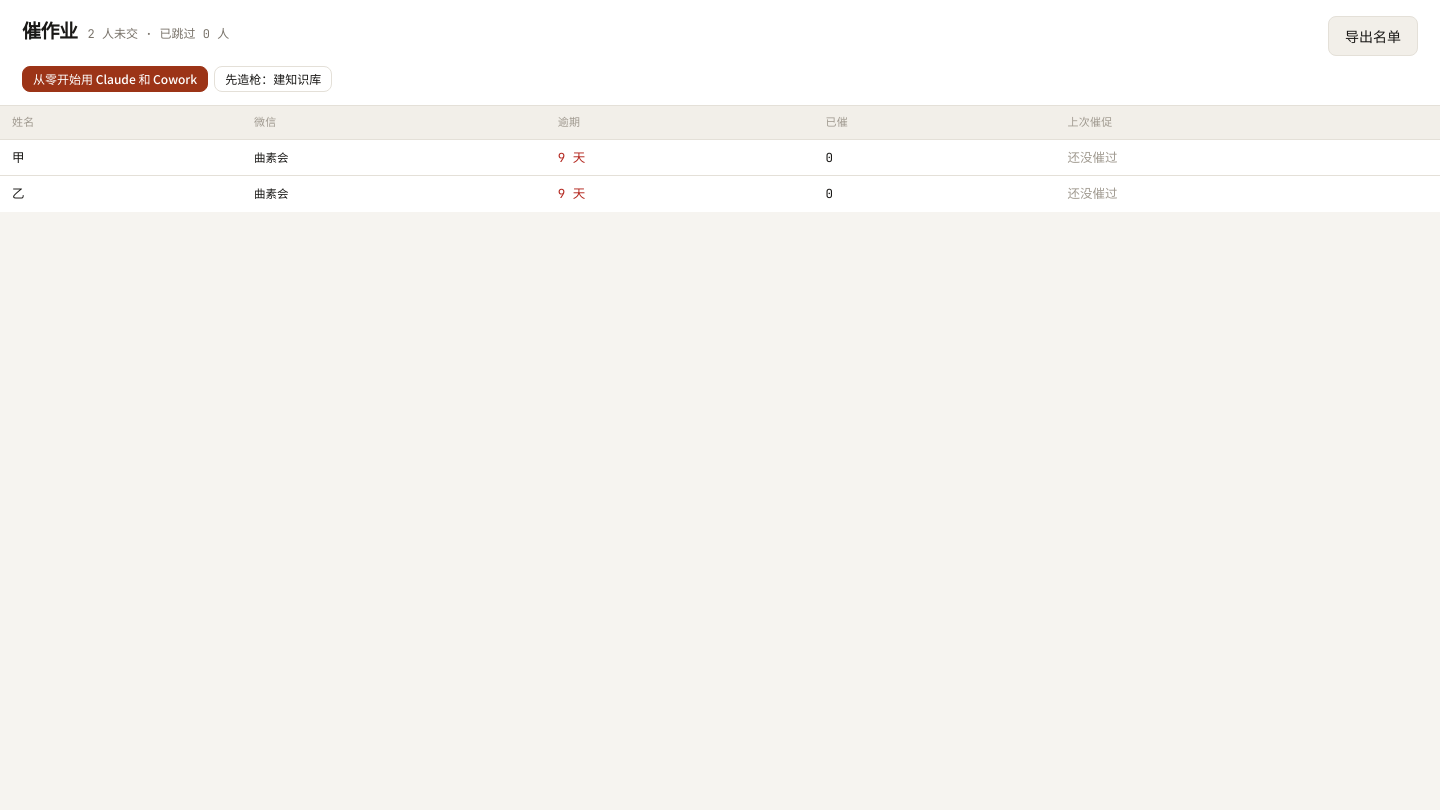
写入动作 › 编辑草稿后选中另一人、再选回来，草稿恢复成默认文本
Click the row with test id "nudge-alpha@example.com" at x=720, y=157, box x1=0 y1=139 x2=1439 y2=176
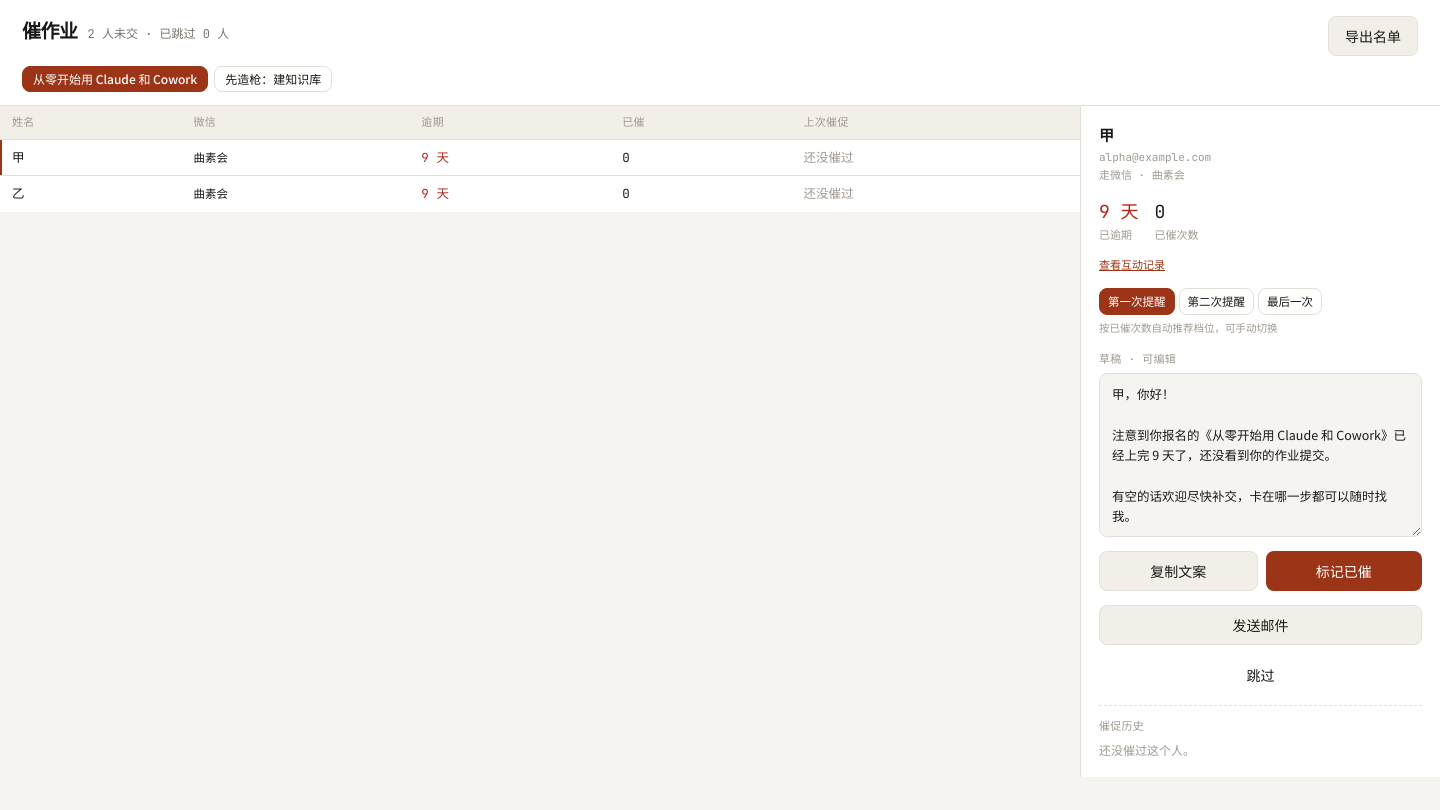
Replace the text in the text box with "手写的内容" at x=1260, y=455, box x1=1099 y1=373 x2=1422 y2=537
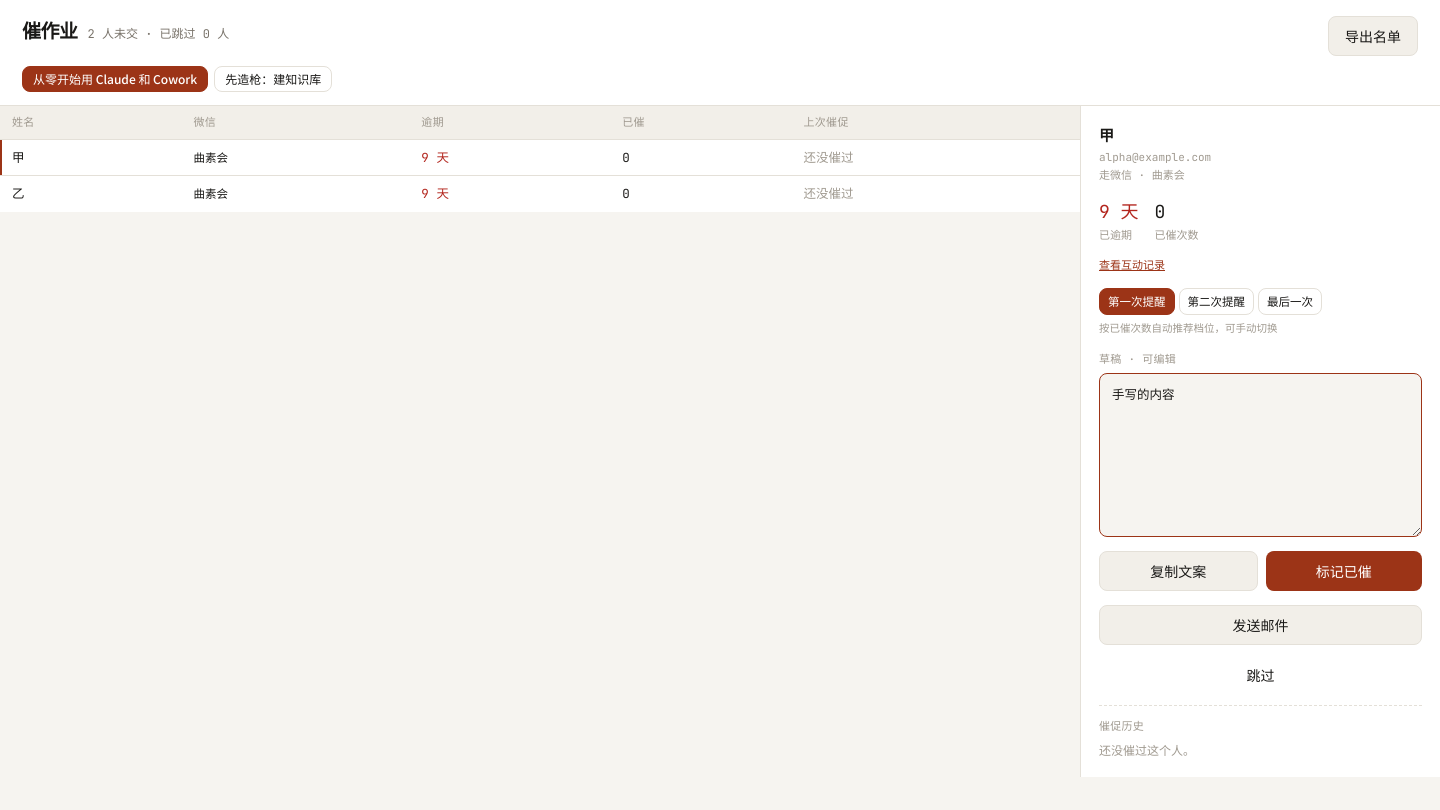
Click the row with test id "nudge-bravo@example.com" at x=540, y=194, box x1=0 y1=176 x2=1080 y2=212
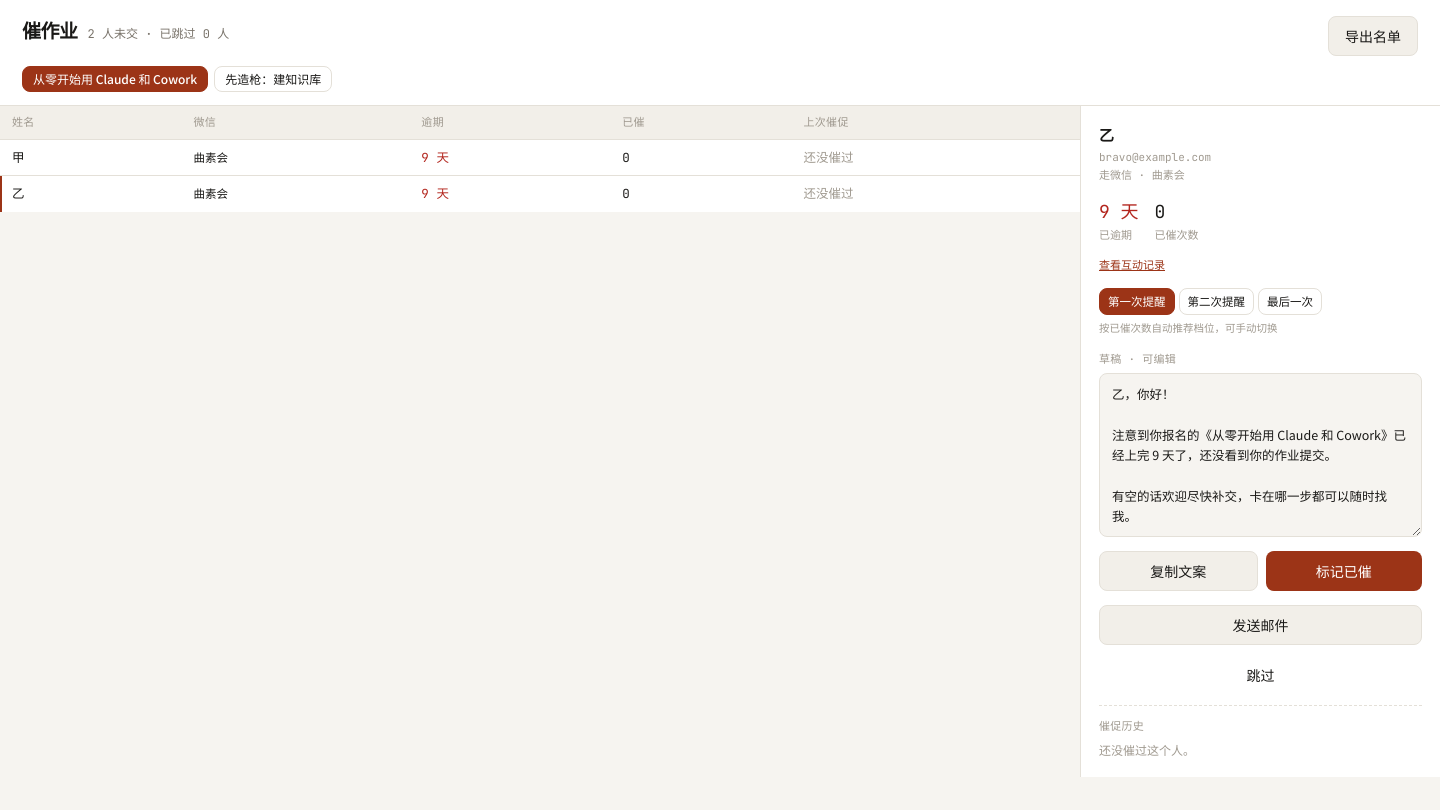
Click the row with test id "nudge-alpha@example.com" at x=540, y=157, box x1=0 y1=139 x2=1080 y2=176
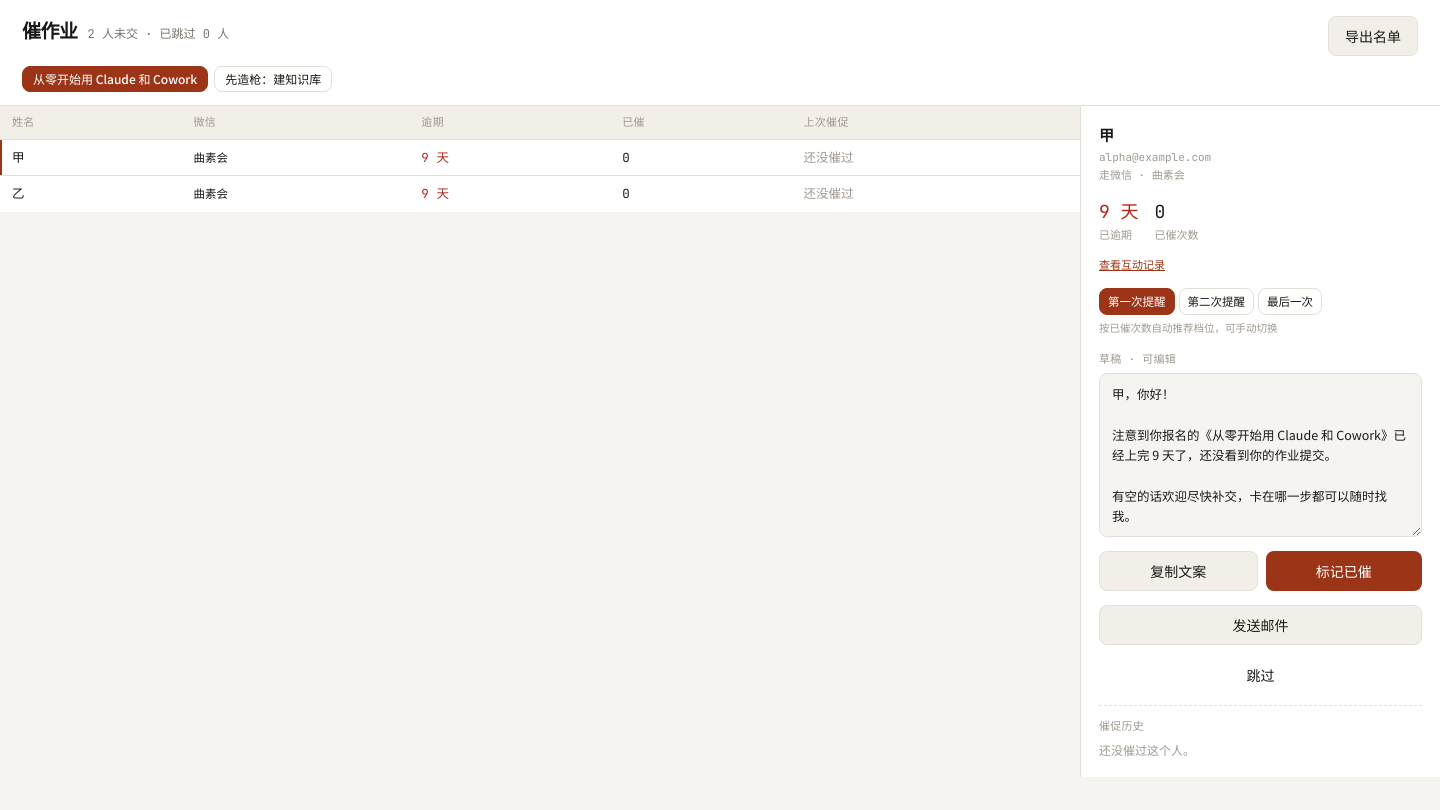
Expected: the text box does not hold "手写的内容", x1=1099 y1=373 x2=1422 y2=537
